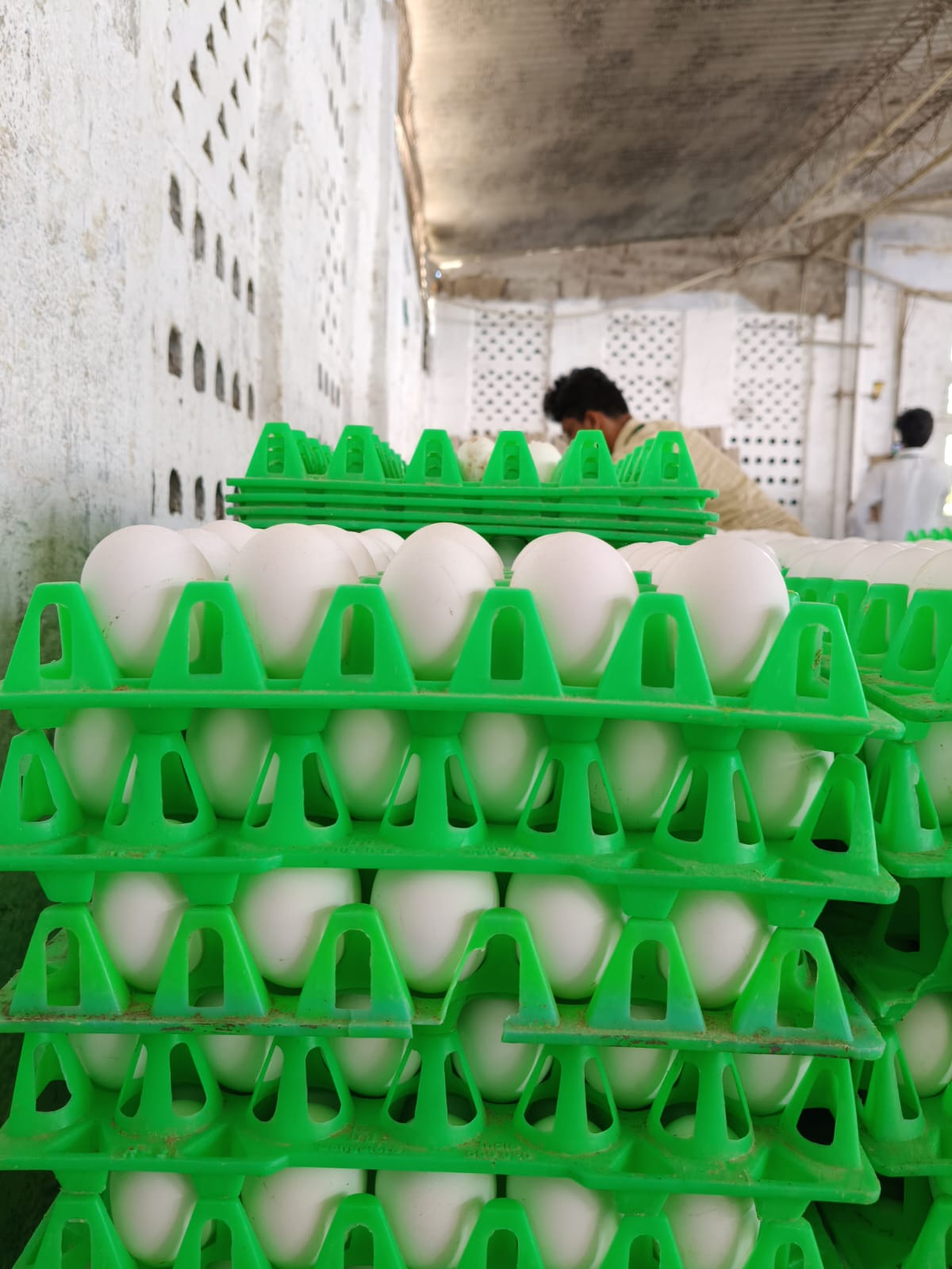egg_tray: (16, 701, 869, 867), (29, 847, 791, 994), (53, 1013, 850, 1151), (32, 540, 791, 675), (42, 1166, 812, 1269)
